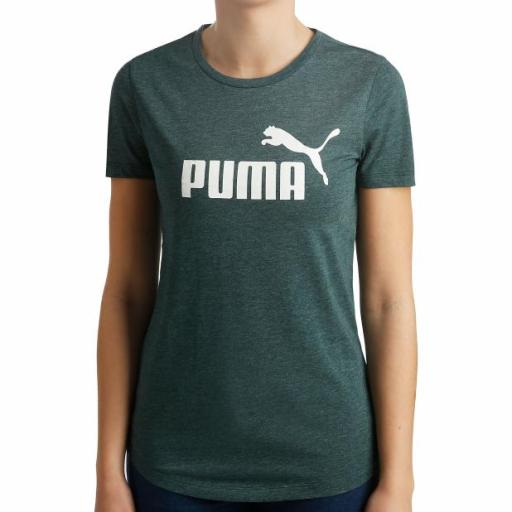Puma: (261, 120, 342, 188)
